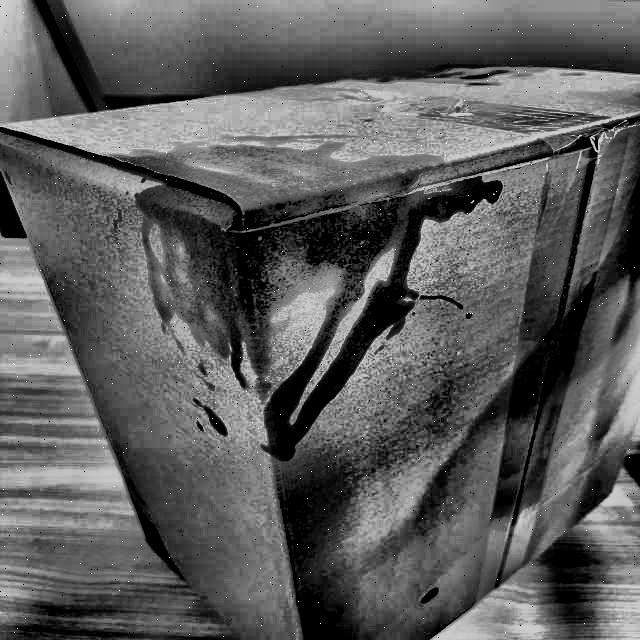box: (1, 63, 640, 639)
wet: (121, 135, 461, 467)
